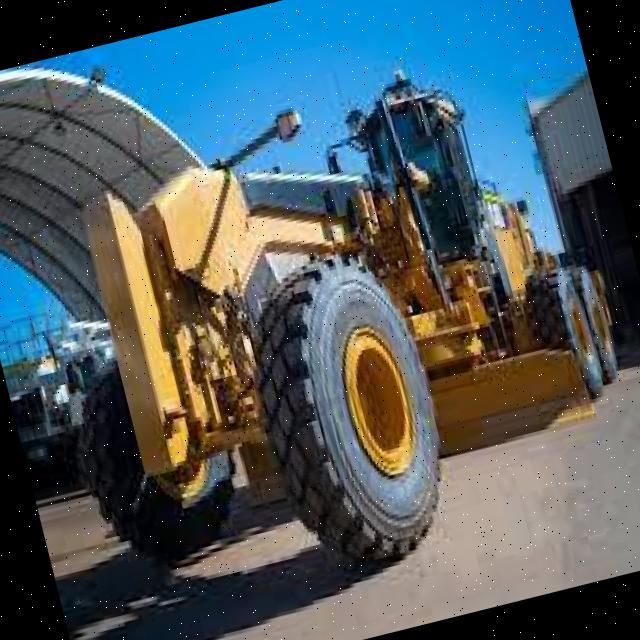Grader: (23, 27, 640, 625)
